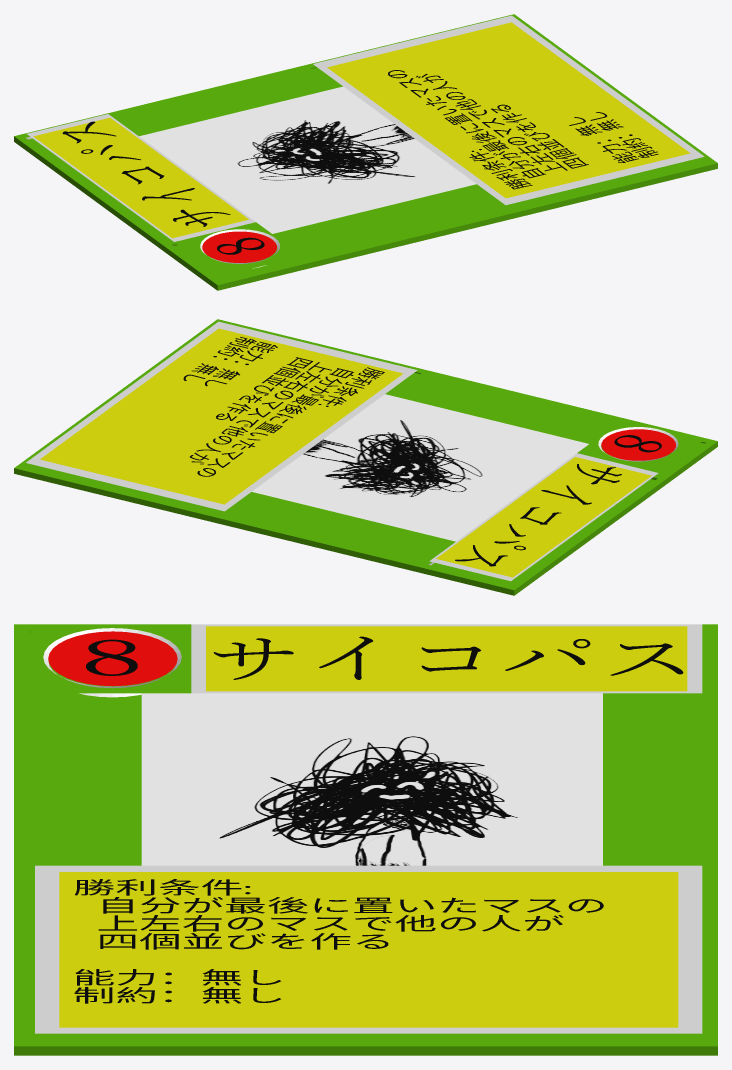
File: サイコパス緑.fbx
The picture shows the model from 3 angles, top to bottom: view 1: azimuth 30°, elevation 25°; view 2: azimuth 150°, elevation 25°; view 3: azimuth 270°, elevation 25°; orthographic projection. The views are drawn at different scales.
Parts seen in each view (by area): view 1: 説明欄, 平面.001, カード本体.001, 名前欄, 説明文, 平面, 円, 名前; view 2: 説明欄, 平面.001, カード本体.001, 名前欄, 説明文, 円, 平面, 名前; view 3: 説明欄, 平面.001, カード本体.001, 名前欄, 説明文, 平面, 円, 名前, コスト蘭, コスト.
Part boxes in pixels (<box>): 説明欄: <box>313,15,704,205</box>; 平面.001: <box>139,86,476,233</box>; カード本体.001: <box>14,14,717,290</box>; 名前欄: <box>27,114,255,241</box>; 説明文: <box>388,70,658,189</box>; 平面: <box>174,222,302,275</box>; 円: <box>202,231,276,262</box>; 名前: <box>62,121,230,226</box>; 説明欄: <box>26,321,417,511</box>; 平面.001: <box>252,394,588,541</box>; カード本体.001: <box>14,319,717,595</box>; 名前欄: <box>429,453,658,581</box>; 説明文: <box>183,337,384,476</box>; 円: <box>601,429,675,460</box>; 平面: <box>577,419,704,472</box>; 名前: <box>455,464,621,566</box>; 説明欄: <box>35,865,702,1033</box>; 平面.001: <box>141,693,602,865</box>; カード本体.001: <box>14,624,717,1055</box>; 名前欄: <box>191,624,702,693</box>; 説明文: <box>74,879,603,1003</box>; 平面: <box>30,624,191,693</box>; 円: <box>48,631,177,686</box>; 名前: <box>213,636,683,679</box>; コスト蘭: <box>43,628,181,697</box>; コスト: <box>86,639,137,675</box>.
Bounding box in the file's own units: 281 × 6.07 × 198.
